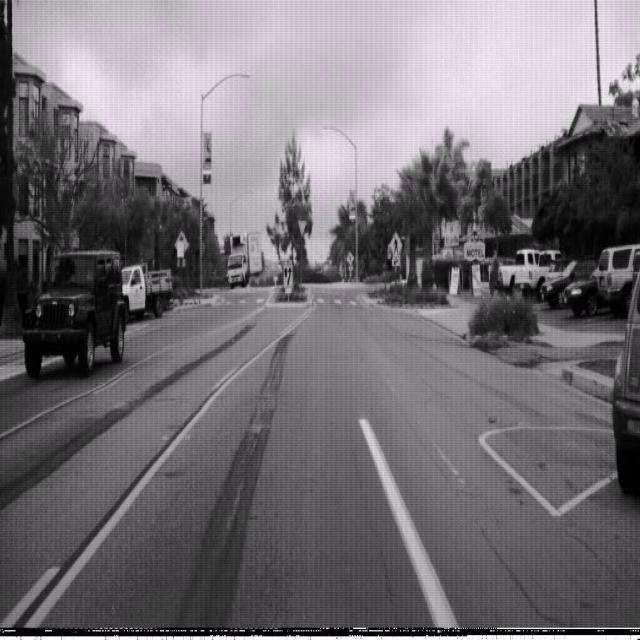pedestrianCrossing: (388, 231, 403, 261)
yield: (297, 217, 307, 237)
